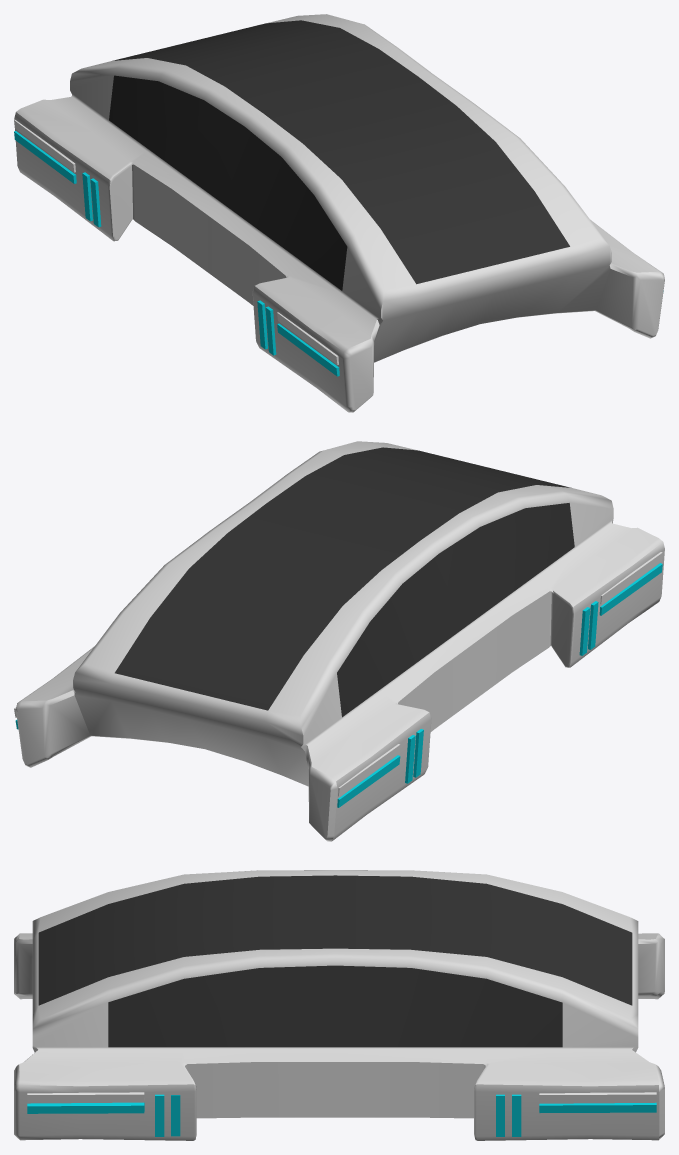
The model's file is Flycar_v1.fbx.
3 renders of one model, top to bottom at view 1: azimuth 30°, elevation 25°; view 2: azimuth 150°, elevation 25°; view 3: azimuth 270°, elevation 25°, orthographic. The views are drawn at different scales.
Parts seen in each view (by area): view 1: pCube1, pCube3, pCube12, pCube11, pCube13; view 2: pCube1, pCube3, pCube12, pCube13, pCube11; view 3: pCube1, pCube14, pCube17, pCube15, pCube16, pCube6, pCube9, pCube8.
Boxes of the visible parts, x1,y1,x2,y2 form: pCube1: (14,14,664,412); pCube3: (14,131,76,183); pCube12: (277,323,339,376); pCube11: (14,120,75,172); pCube13: (277,312,338,364); pCube1: (16,441,664,841); pCube3: (337,755,400,807); pCube12: (599,563,662,615); pCube13: (600,552,662,604); pCube11: (338,744,400,796); pCube1: (14,870,664,1140); pCube14: (27,1102,144,1113); pCube17: (539,1092,656,1102); pCube15: (27,1092,144,1102); pCube16: (539,1102,656,1112); pCube6: (512,1094,521,1136); pCube9: (155,1094,164,1136); pCube8: (171,1095,180,1136).
Bounding box in the file's own units: 7.19 × 3.41 × 12.67.
